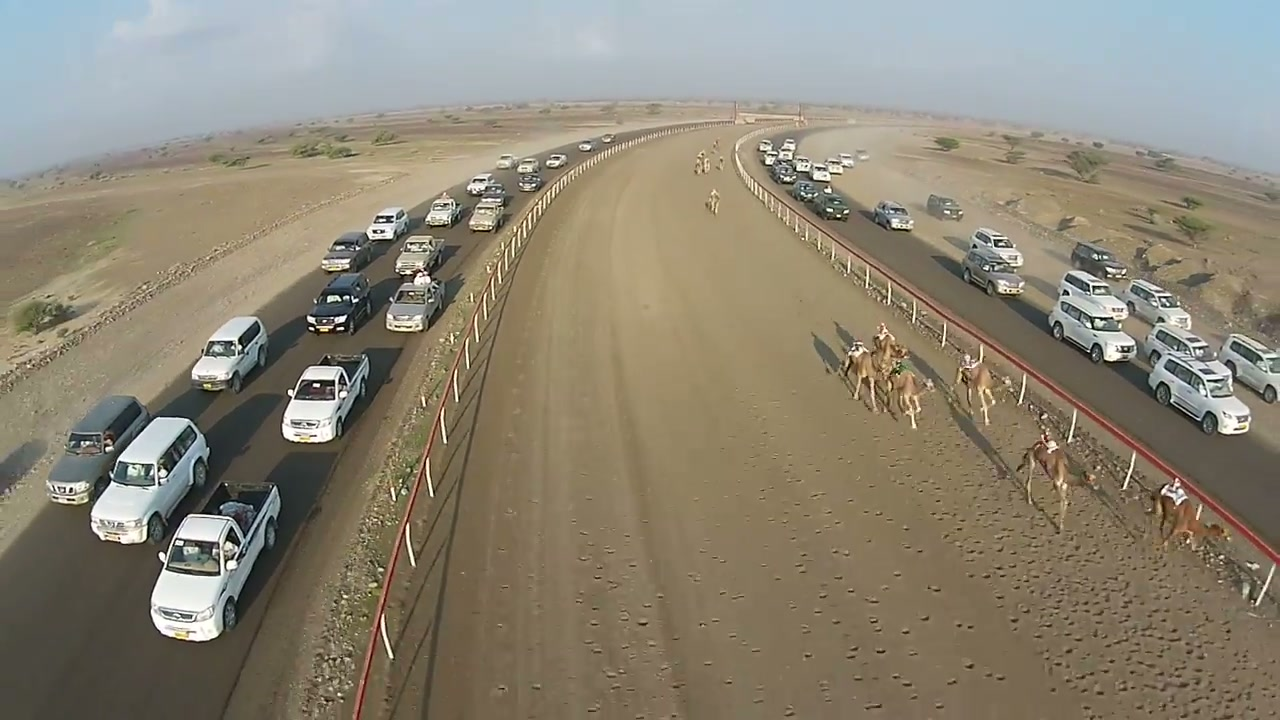animal_footprint: (862, 393, 1279, 711), (809, 458, 1017, 719)
